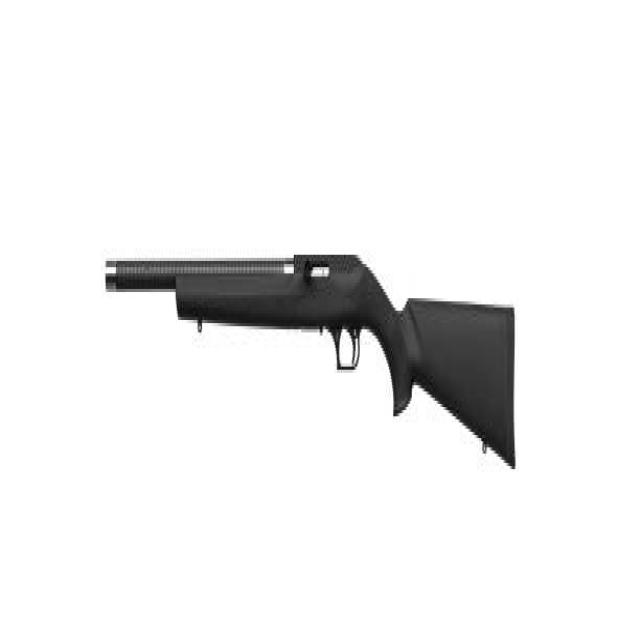rifle: (101, 220, 523, 481)
